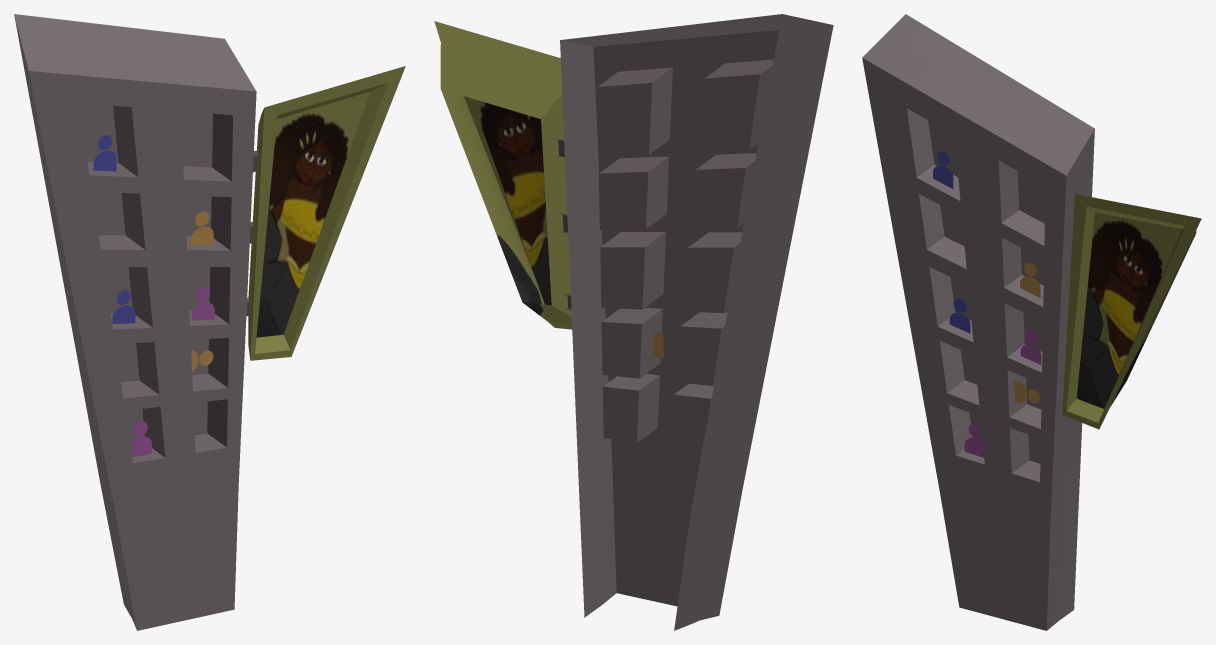
File: Building1WithSign.fbx
The picture shows the model from 3 angles, left to right: view 1: azimuth 30°, elevation 25°; view 2: azimuth 150°, elevation 25°; view 3: azimuth 330°, elevation 25°; orthographic projection. The views are drawn at different scales.
Visible parts, largest first — view 1: BuildingAndSign1, Sign, Person6, Person8, Person7, Person5, Person3; view 2: BuildingAndSign1, Sign; view 3: BuildingAndSign1, Sign, Person6.
Part boxes in pixels (x1,y1,x2,y2): BuildingAndSign1: (14, 14, 256, 630); Sign: (246, 66, 405, 360); Person6: (93, 135, 116, 171); Person8: (190, 211, 213, 245); Person7: (112, 290, 135, 324); Person5: (191, 286, 214, 320); Person3: (130, 421, 151, 456); BuildingAndSign1: (560, 14, 833, 630); Sign: (434, 21, 572, 329); BuildingAndSign1: (862, 14, 1094, 630); Sign: (1062, 194, 1201, 429); Person6: (933, 151, 953, 188).
Size of the model in its own units: 13.38 by 20.93 by 1.94.
